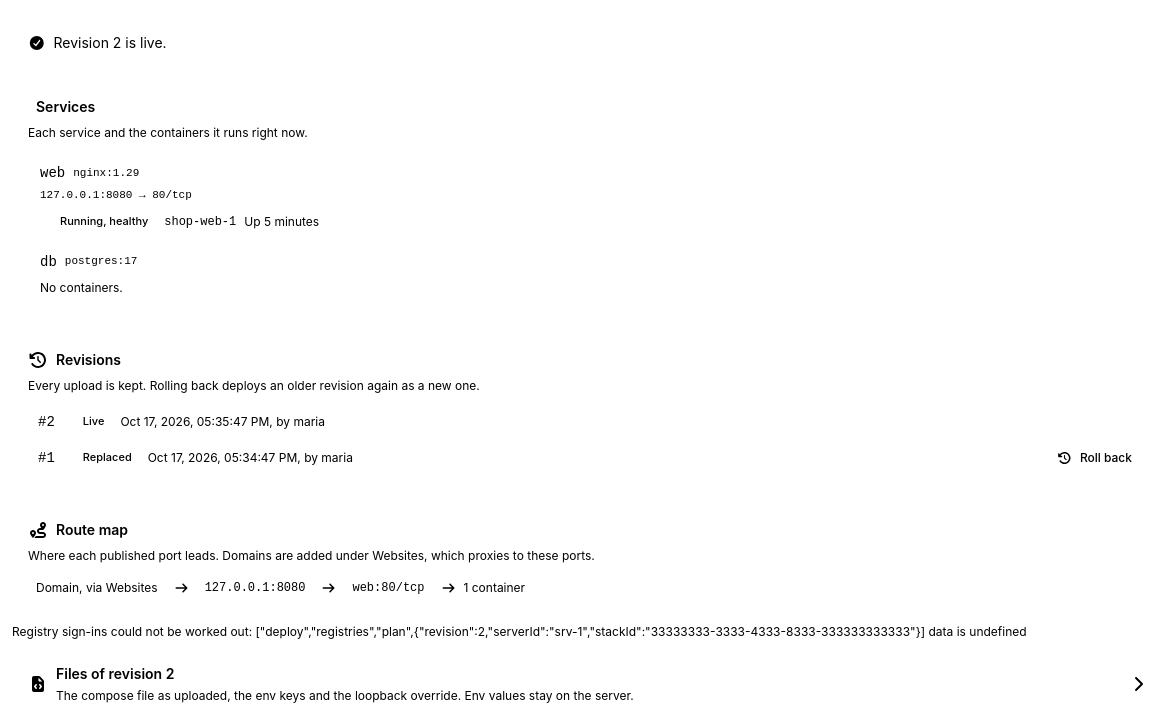
Test: AppDetail › shows the files of a revision with env keys only and the override
(page scrolled)
What coordinates should you click on to do the following:
click the button "Files of revision 2"
I would click on:
 (111, 673)
Its box is [12,648,1164,719].
(page scrolled)
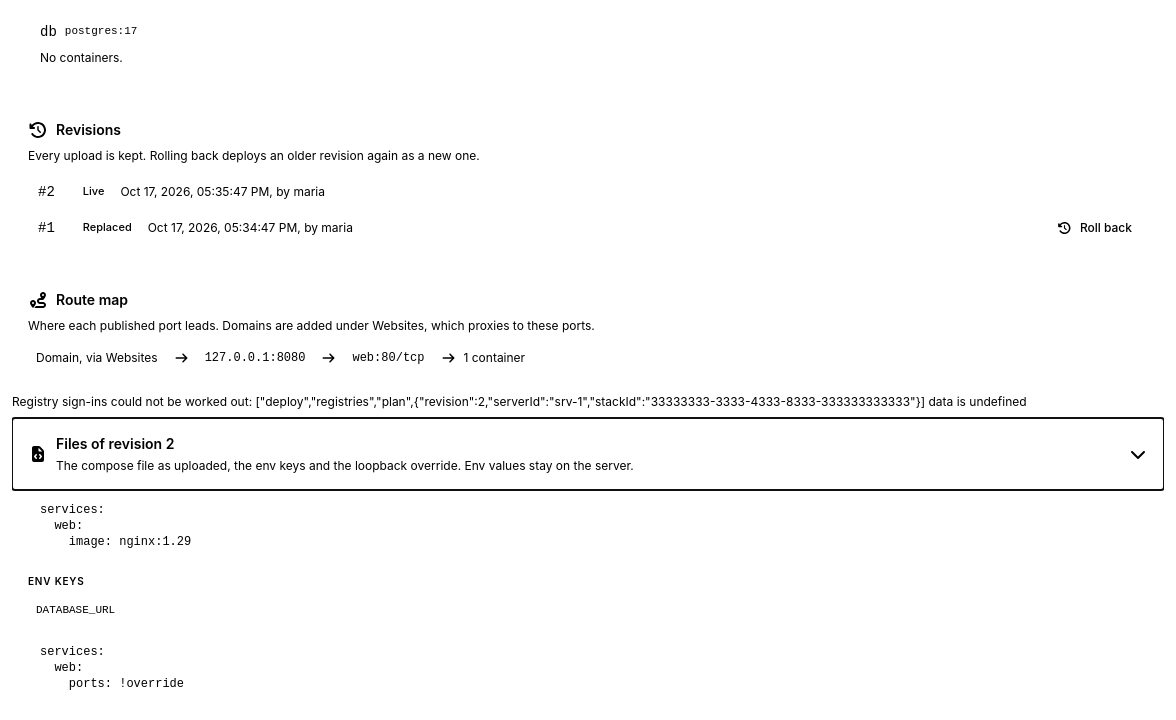
expect the text named "Compose file" shows "image: nginx:1.29": met, box [40,502,191,548]
expect the list named "Env keys" reads "DATABASE_URL": met, box [36,604,115,616]
expect the text named "Loopback override" shows "!override": met, box [40,645,184,691]
